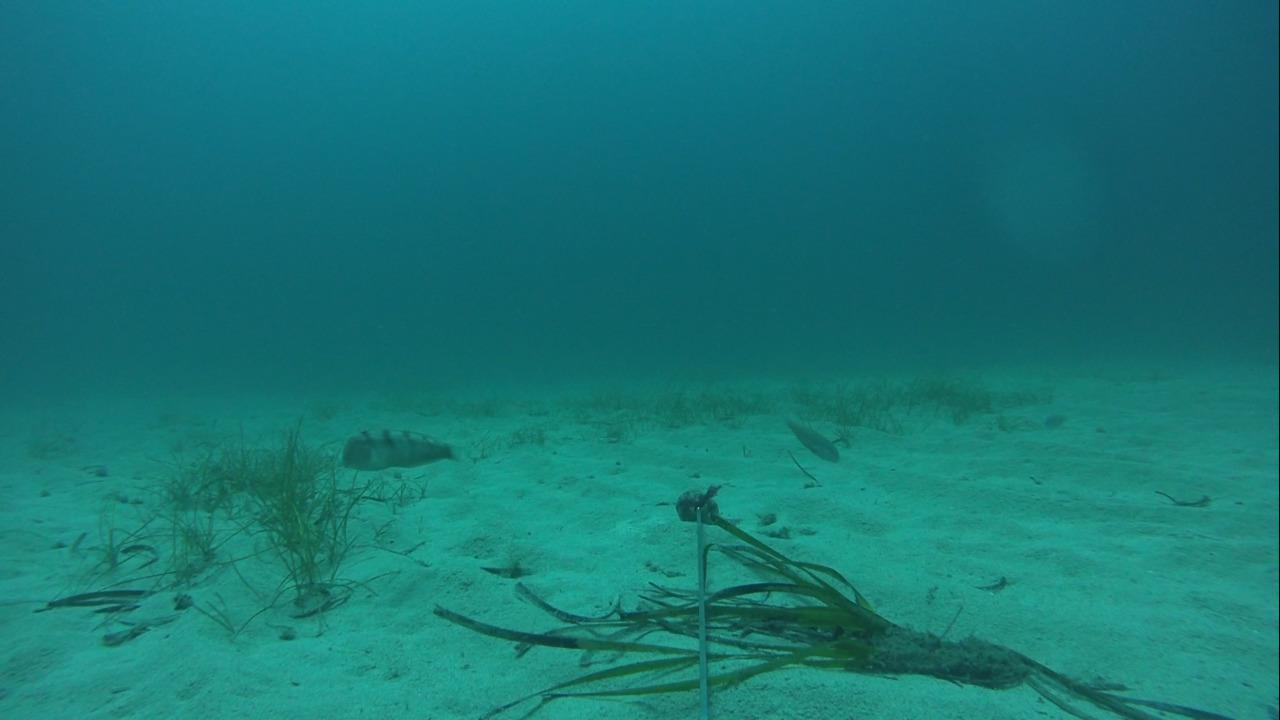raor: (334, 424, 463, 476), (781, 408, 847, 472), (1045, 415, 1069, 431)
